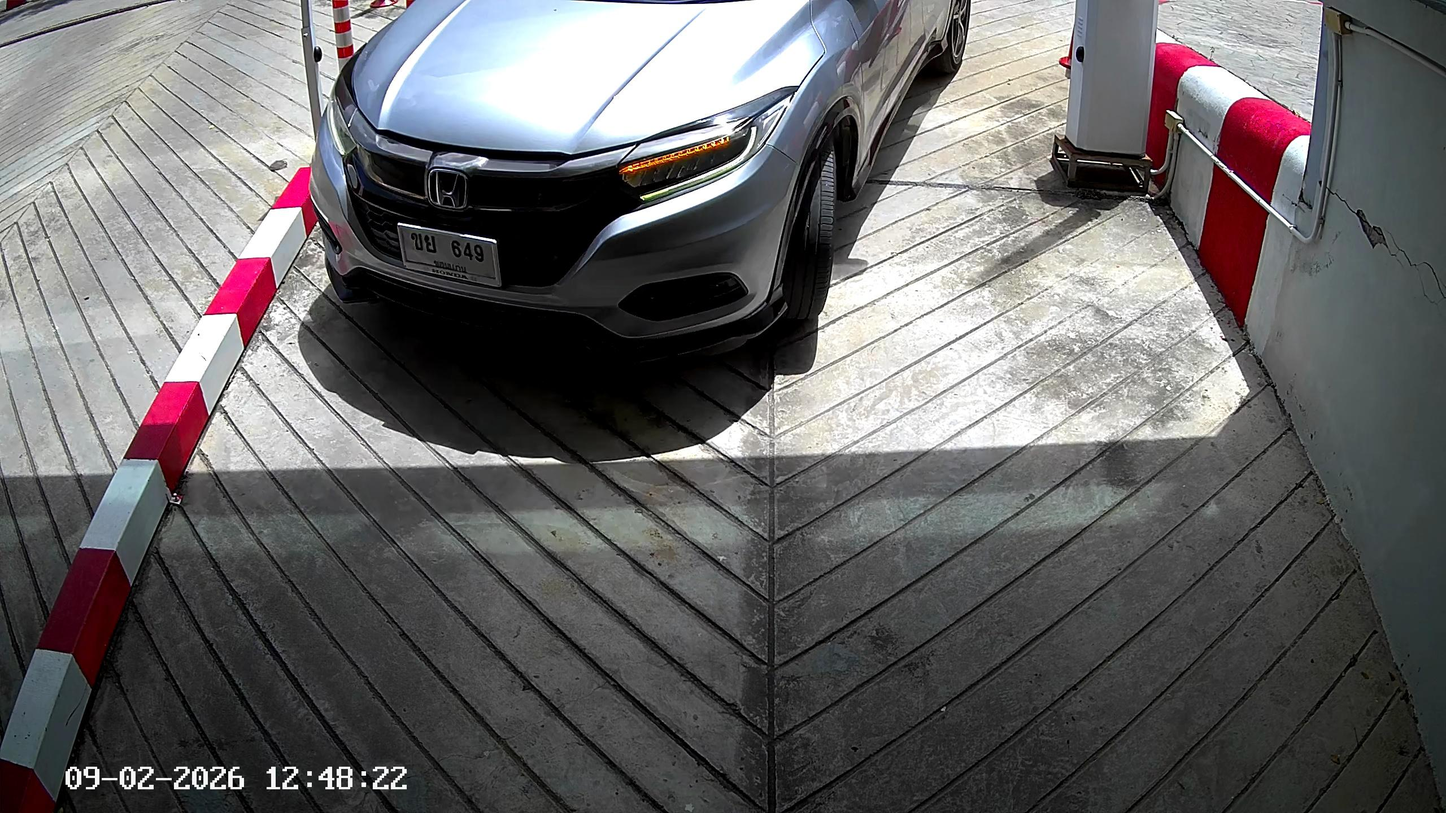car: (305, 2, 973, 368)
license-plate: (395, 217, 504, 304)
